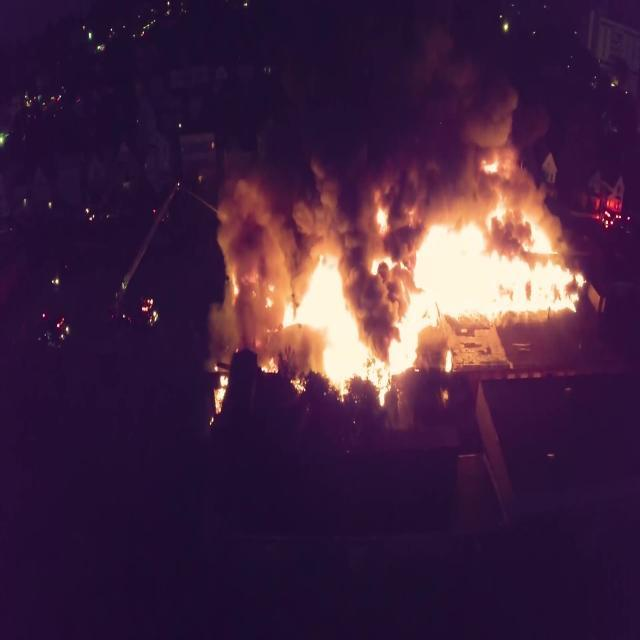Fire: (205, 162, 581, 416)
Smoke: (217, 25, 554, 359)
